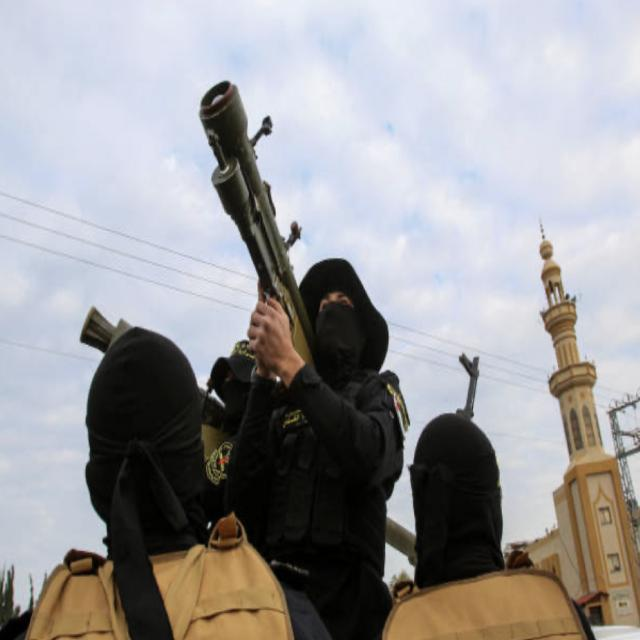bazooka: (190, 72, 302, 318)
